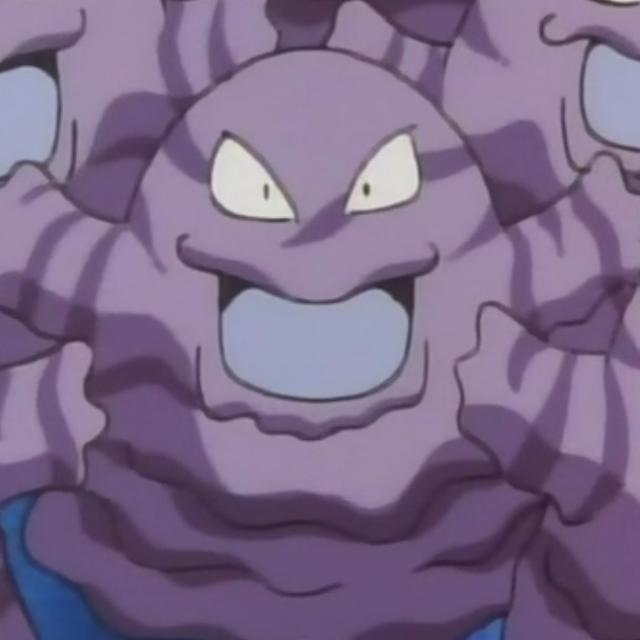Grimer: (43, 46, 563, 619)
